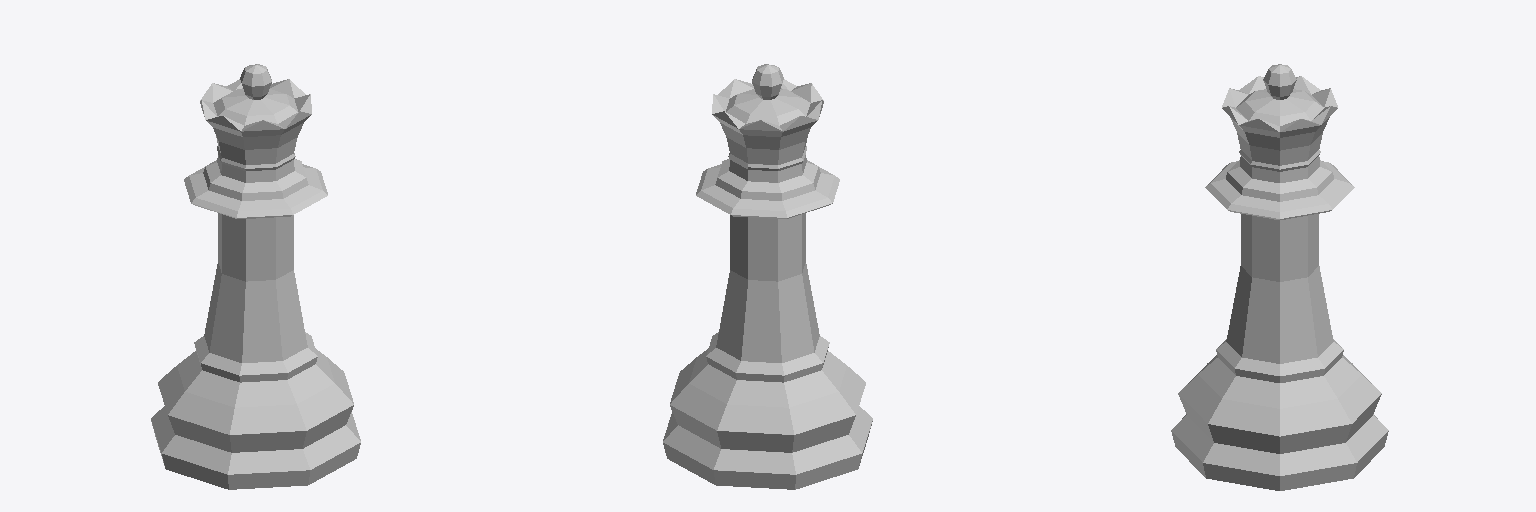
Rendered from queen.obj.
3 renders of one model, left to right at view 1: azimuth 30°, elevation 25°; view 2: azimuth 150°, elevation 25°; view 3: azimuth 270°, elevation 25°, orthographic.
Visible parts, largest first — view 1: Chess_Queen; view 2: Chess_Queen; view 3: Chess_Queen.
Boxes of the visible parts, x1=… form: Chess_Queen: x1=151, y1=64, x2=360, y2=489; Chess_Queen: x1=663, y1=64, x2=872, y2=489; Chess_Queen: x1=1171, y1=64, x2=1388, y2=490.
Size of the model in its own units: 4.42 by 8.55 by 4.42.